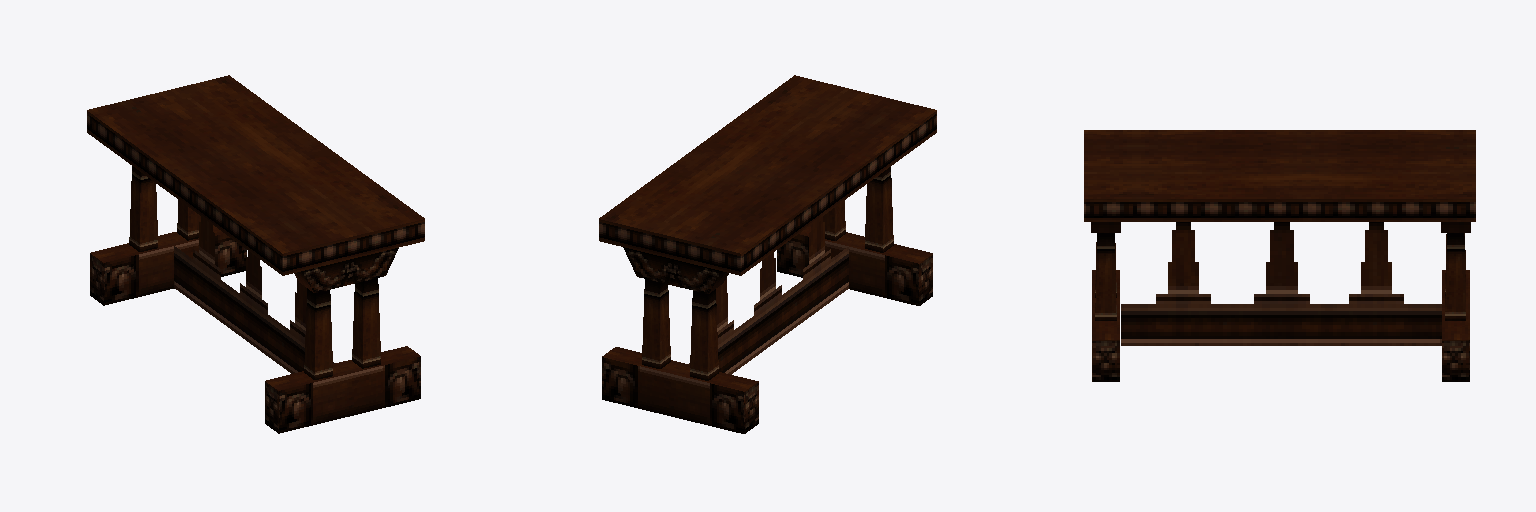
3 renders of one model, left to right at view 1: azimuth 30°, elevation 25°; view 2: azimuth 150°, elevation 25°; view 3: azimuth 270°, elevation 25°, orthographic.
Bounding box in the file's own units: 40.84 × 50.03 × 97.2.
Materials: 1 (1 with a texture image).